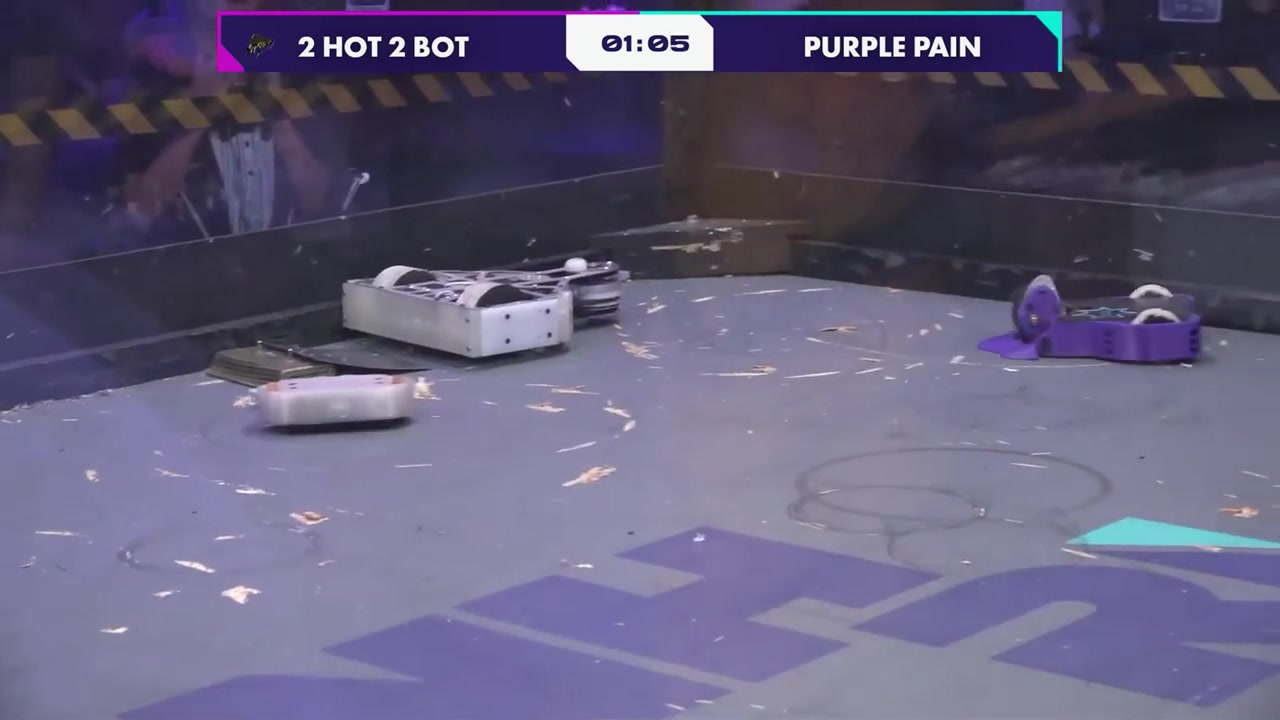combatbot: (338, 254, 623, 359), (978, 272, 1210, 368)
minibot: (252, 368, 430, 434), (206, 336, 380, 392)
